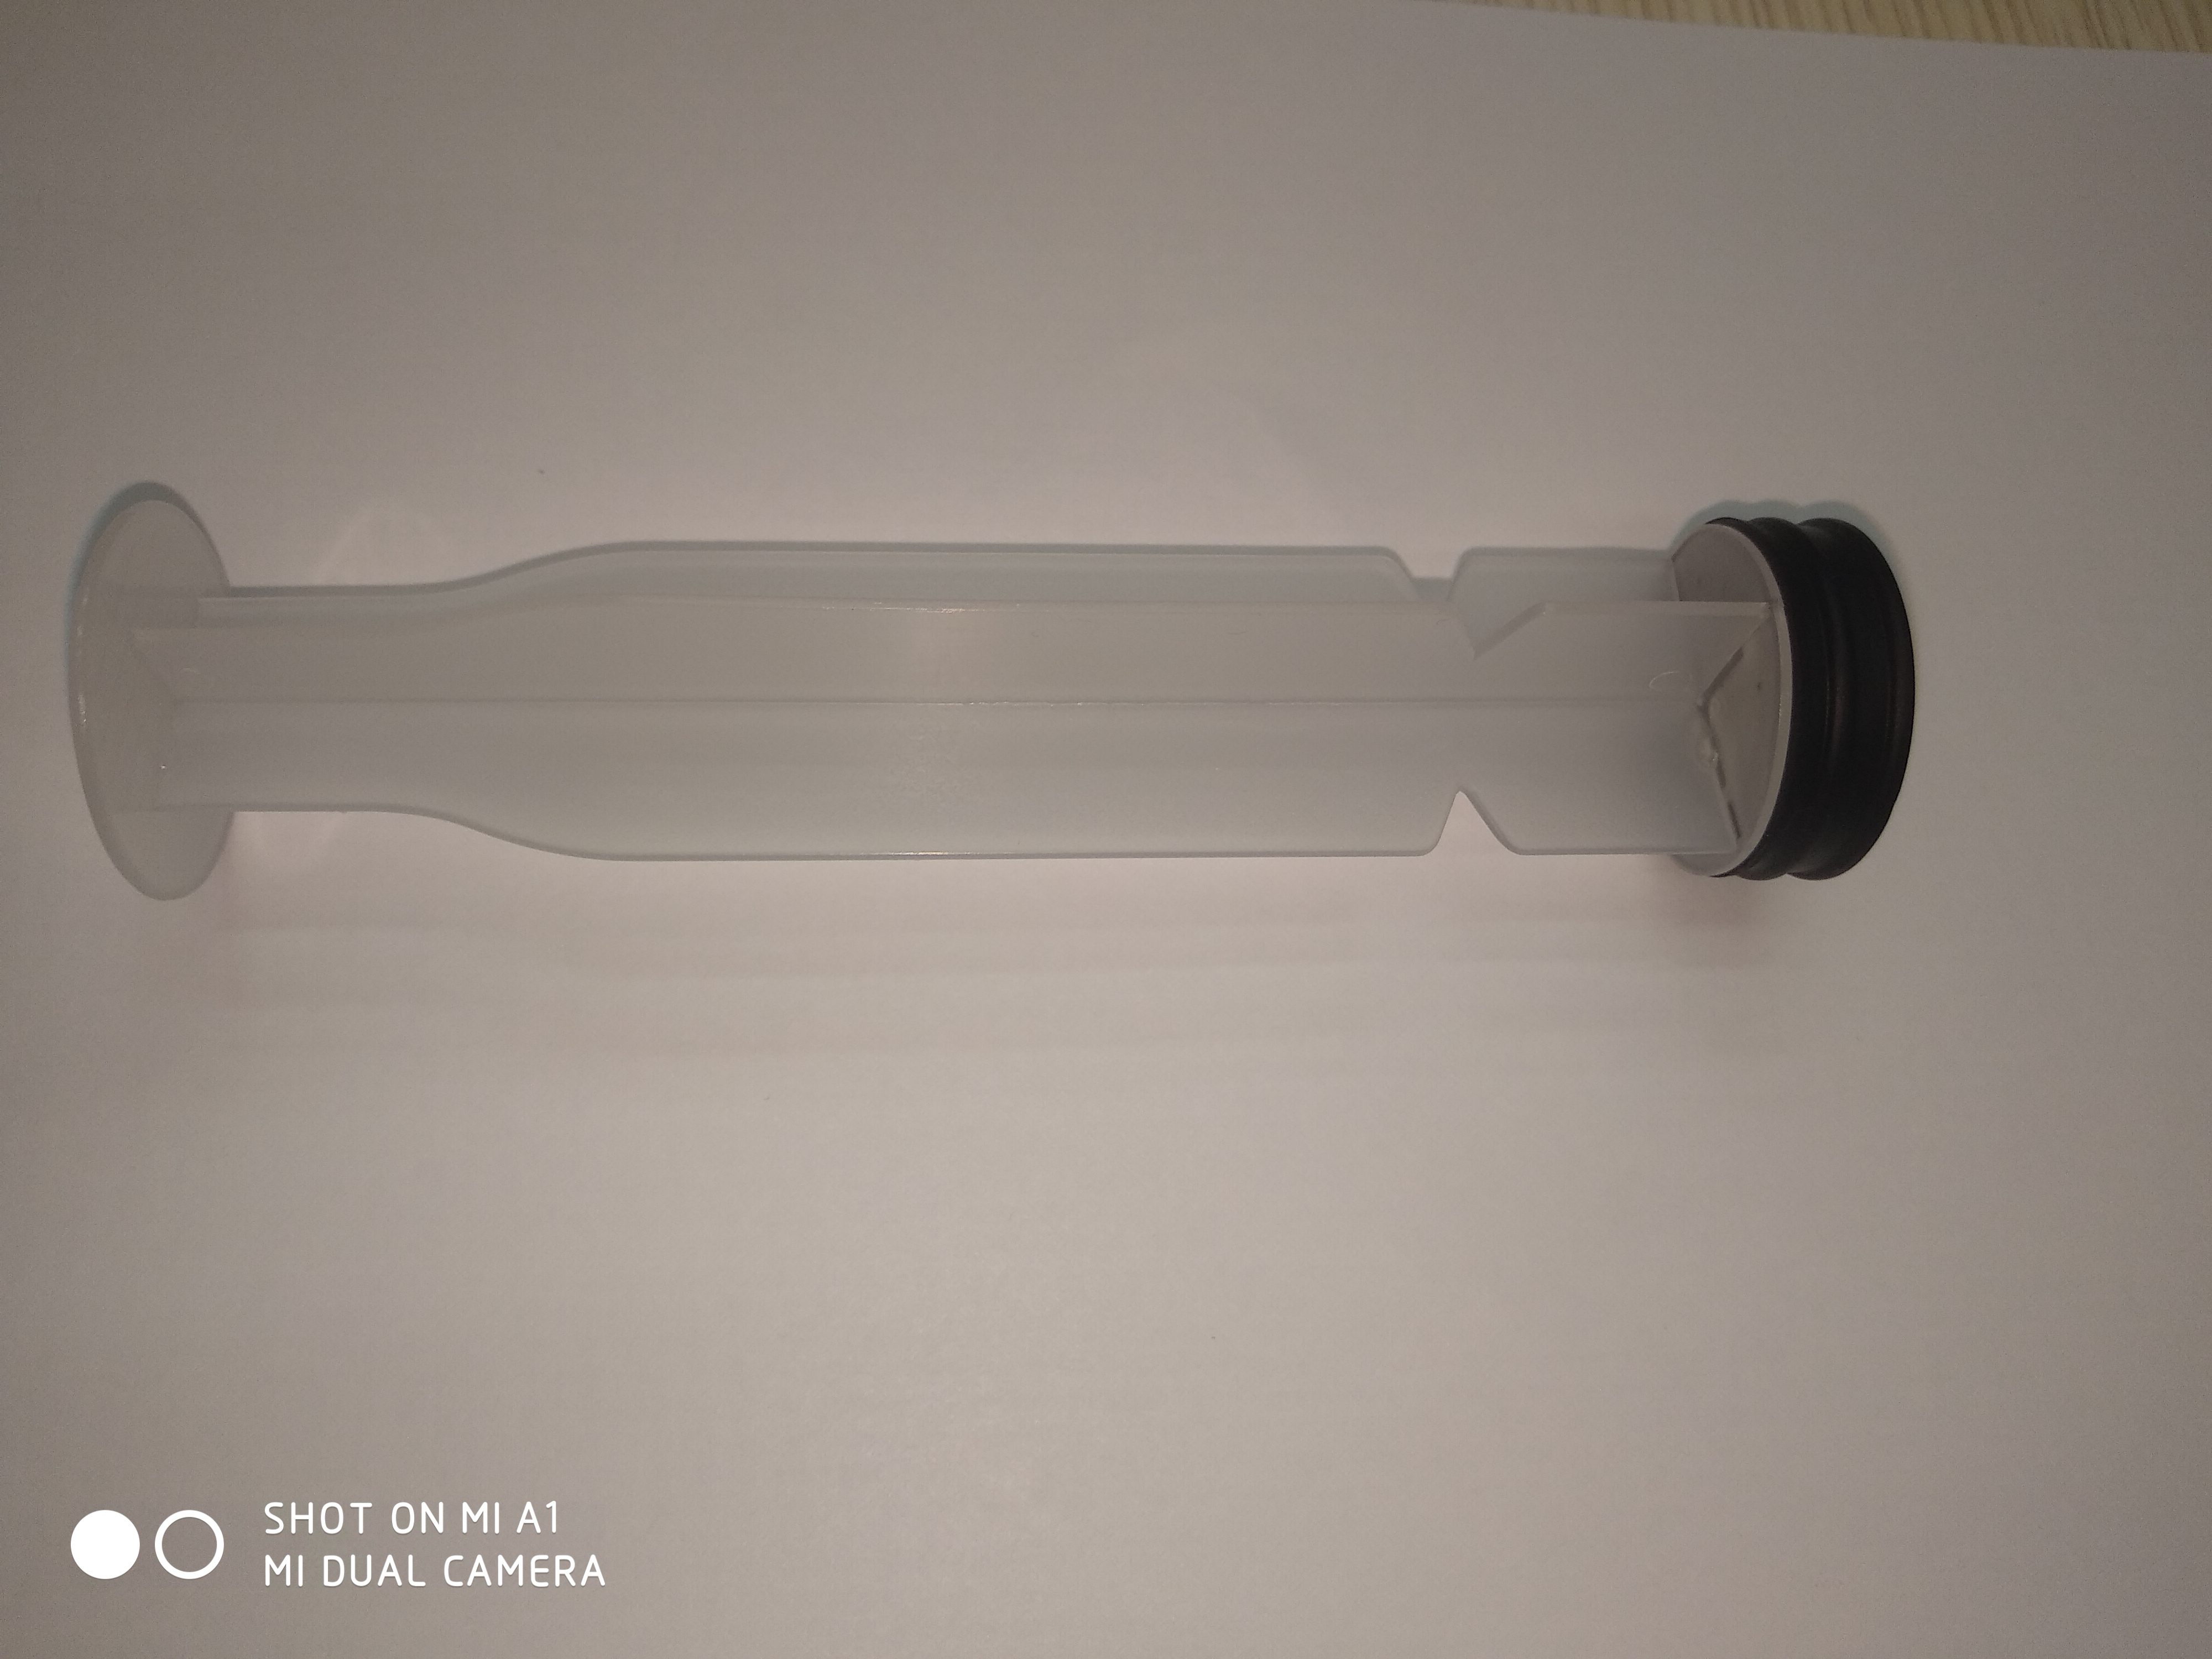plunger: (52, 477, 1925, 906)
